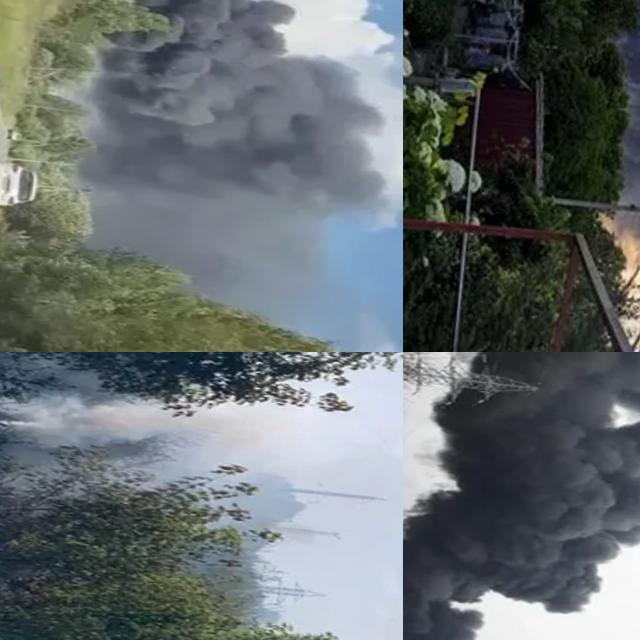smoke: (79, 0, 403, 330), (6, 352, 403, 528), (403, 352, 640, 640)
